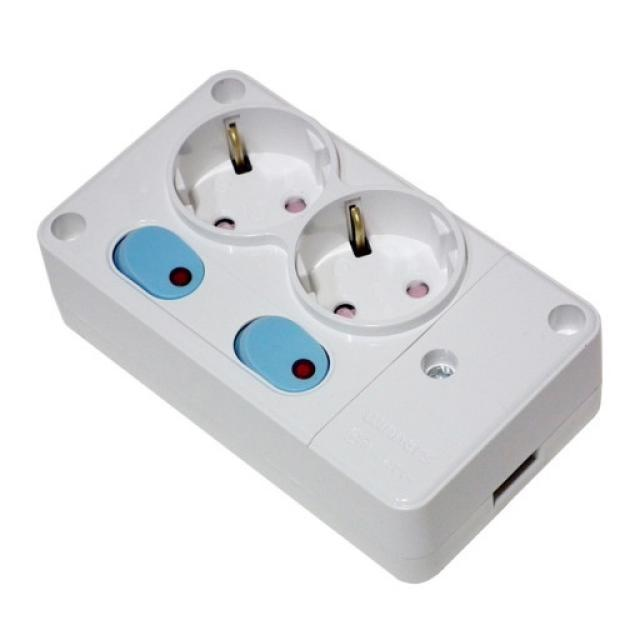typeb: (26, 65, 572, 557)
